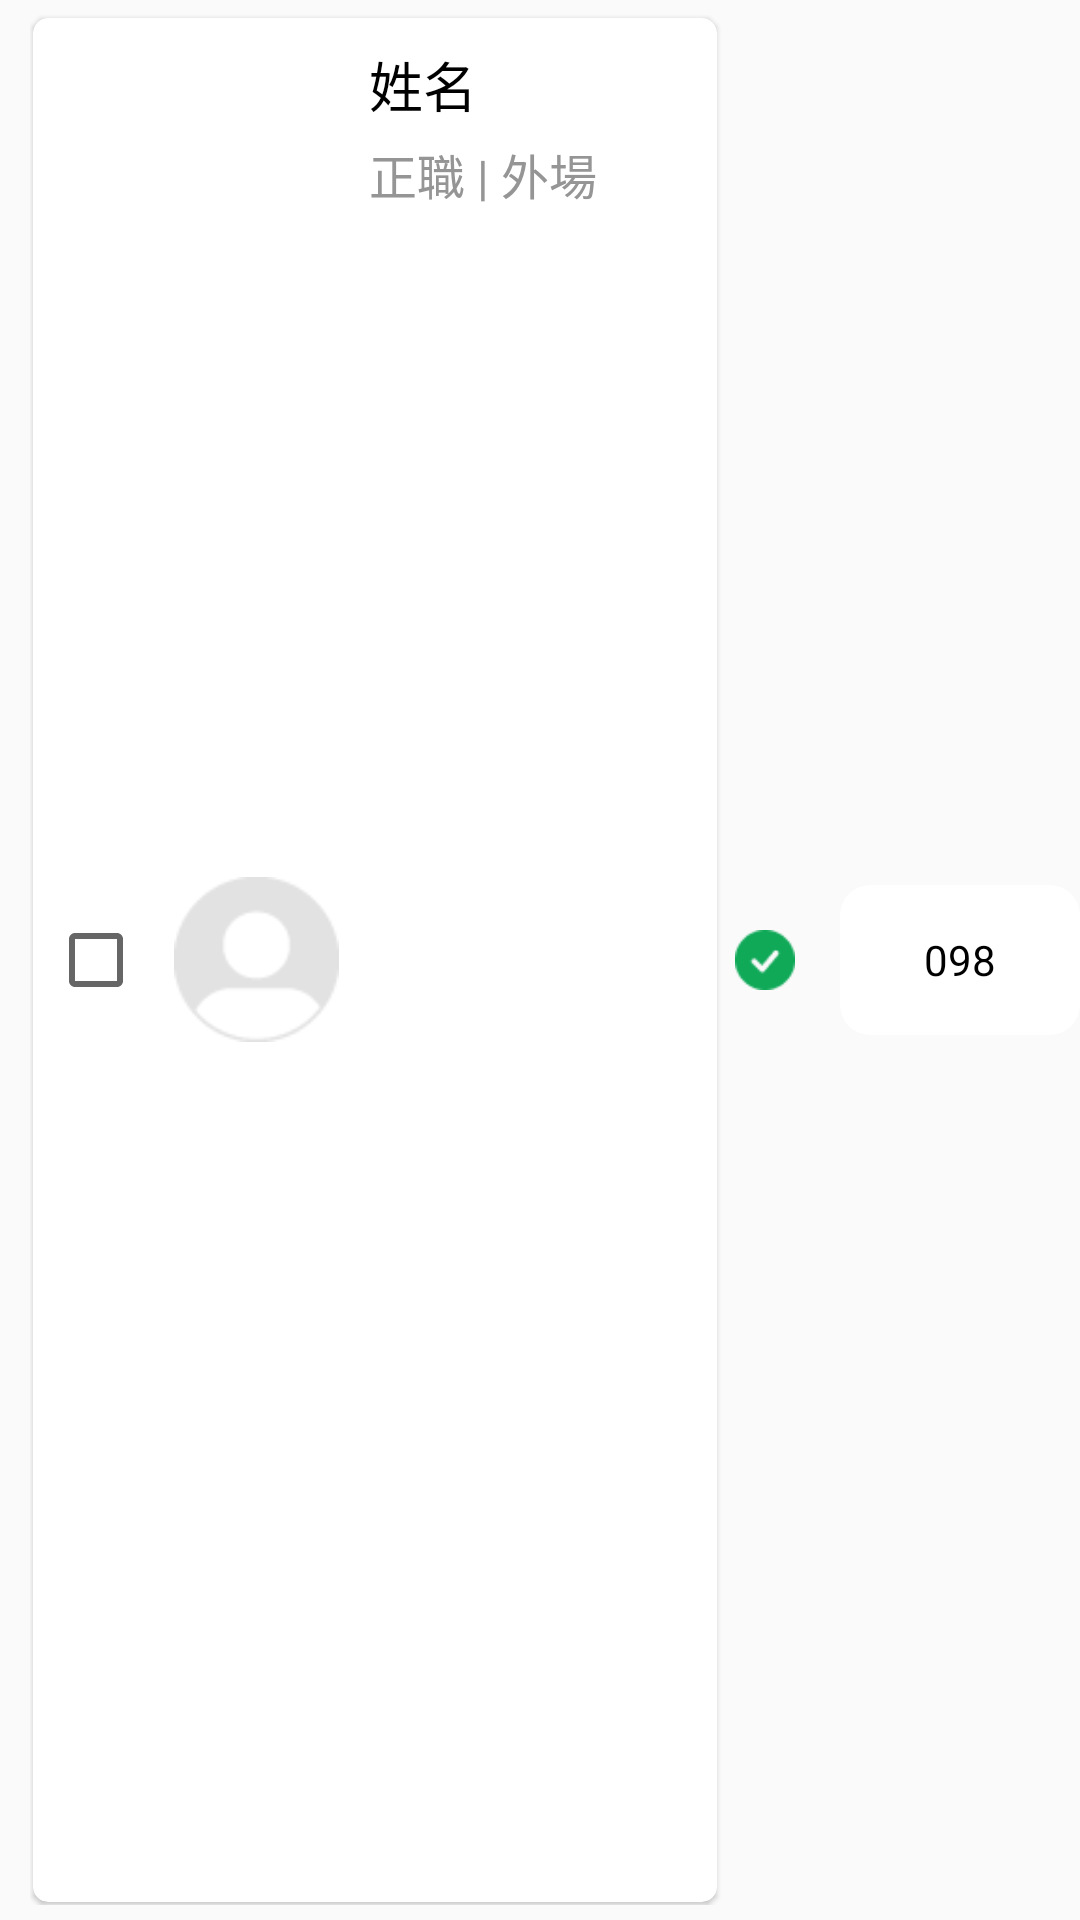

Screen size 1080*1920. Icon name, then its center in pixels as (x=x, y=y):
check: (x=765, y=960)
user: (x=256, y=959)
